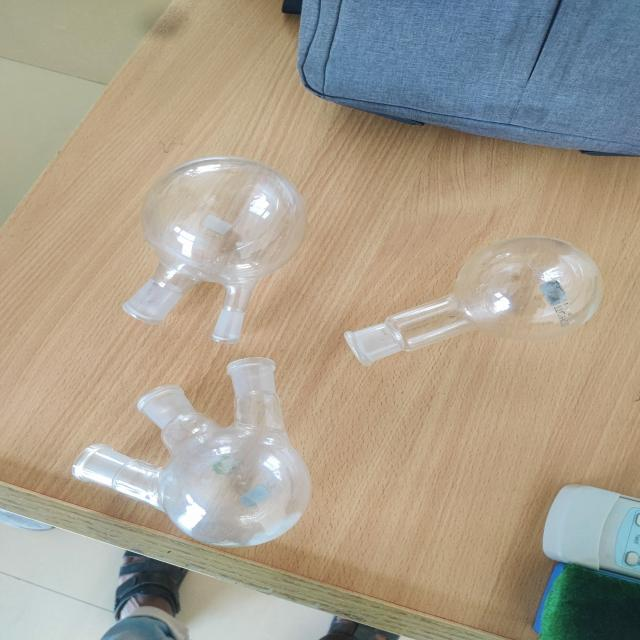Round_Bottom_Flask_Borosilicate_Glass_1_Neck: (333, 197, 618, 386)
Round_Bottom_Flask_Borosilicate_Glass_2_Neck: (107, 114, 309, 350)
Round_Bottom_Flask_Borosilicate_Glass_3_Neck: (46, 349, 337, 564)
